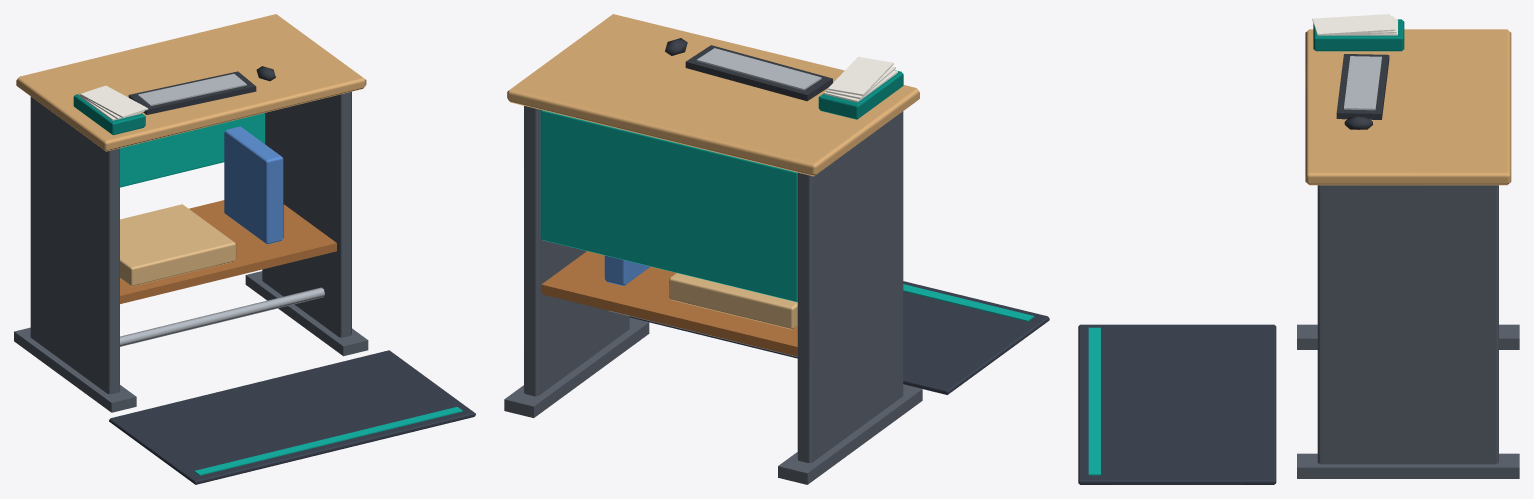
File: station_intake_basis.glb
3 views of the same model, side by side, from view 1: azimuth 30°, elevation 25°; view 2: azimuth 150°, elevation 25°; view 3: azimuth 270°, elevation 25° (orthographic). The views are drawn at different scales.
Parts seen in each view (by area): view 1: station_intake_basis; view 2: station_intake_basis; view 3: station_intake_basis.
Part boxes in pixels (<box>): station_intake_basis: <box>14,14,475,484</box>; station_intake_basis: <box>504,14,1049,484</box>; station_intake_basis: <box>1078,14,1519,484</box>.
Size of the model in its own units: 0.9 by 0.875 by 1.07.
